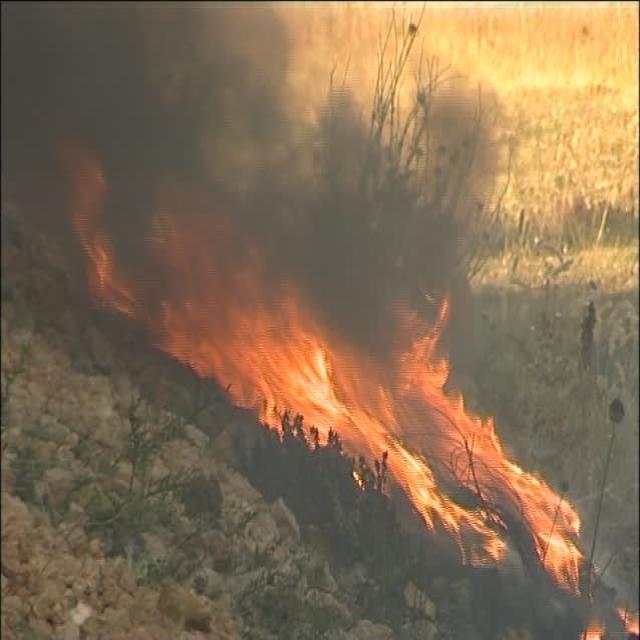Fire: (132, 243, 592, 588)
Smoke: (18, 6, 479, 280)
